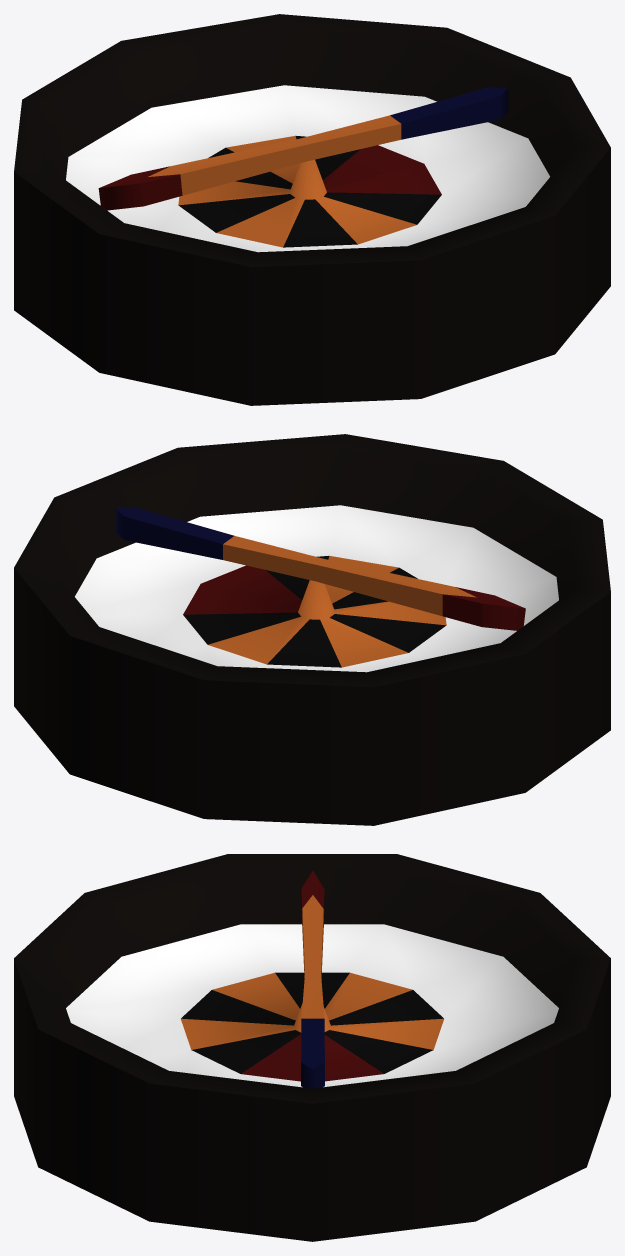
The model's file is Brujula.fbx.
3 views of the same model, one above another, from view 1: azimuth 30°, elevation 25°; view 2: azimuth 150°, elevation 25°; view 3: azimuth 270°, elevation 25° (orthographic).
Parts seen in each view (by area): view 1: Brujula, Flecha; view 2: Brujula, Flecha; view 3: Brujula, Flecha.
Part boxes in pixels (box(x1,y1,x2,y2)): Brujula: box(14, 14, 610, 405); Flecha: box(98, 87, 508, 210); Brujula: box(14, 434, 610, 825); Flecha: box(116, 507, 525, 630); Brujula: box(14, 854, 610, 1241); Flecha: box(301, 871, 324, 1088).
Size of the model in its own units: 0.1299 by 0.0345 by 0.1313.
